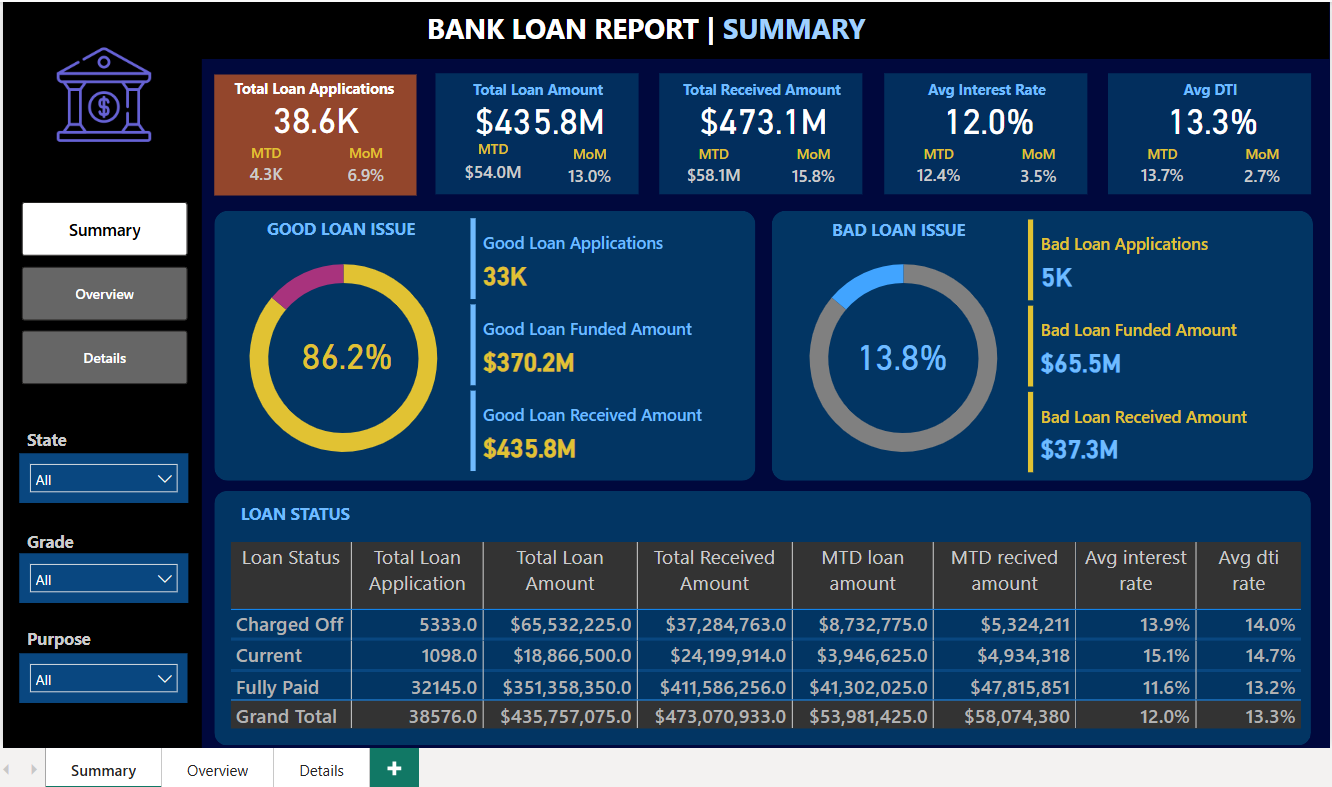

The dashboard page shown, as its layout file describes it:
{"tool":"powerbi","page":{"name":"Summary","canvas":[1280,720],"ordinal":0},"visuals":[{"type":"shape","box":[0,0,1280,55],"z":0},{"type":"cardVisual","fields":{"Data":["_Measure Table.Total Application"]},"box":[219.3,70.7,165.9,75],"z":0,"group":"g4"},{"type":"cardVisual","fields":{"Data":["_Measure Table.Avg interest rate"]},"box":[868,71.6,165.9,75],"z":0,"group":"g7"},{"type":"cardVisual","fields":{"Data":["_Measure Table.Total recived amount"]},"box":[651.7,71.8,165.9,75],"z":0,"group":"g8"},{"type":"cardVisual","fields":{"Data":["_Measure Table.Avg dti rate"]},"box":[1084.3,71.8,165.9,75],"z":0,"group":"g9"},{"type":"cardVisual","fields":{"Data":["_Measure Table.Total loan amount"]},"box":[435.6,72.1,165.9,75],"z":0,"group":"g10"},{"type":"shape","box":[0,0,191.9,719.9],"z":1000},{"type":"textbox","box":[201.5,69,197.9,31.4],"z":1000,"group":"g4"},{"type":"textbox","box":[850.2,69.9,197.9,31.4],"z":1000,"group":"g7"},{"type":"textbox","box":[633.9,70.1,197.9,31.4],"z":1000,"group":"g8"},{"type":"textbox","box":[1066.5,70.1,197.9,31.4],"z":1000,"group":"g9"},{"type":"textbox","box":[417.8,70.4,197.9,31.4],"z":1000,"group":"g10"},{"type":"textbox","box":[404.2,2.4,470.5,55.5],"z":2000},{"type":"card","title":"MTD","fields":{"Values":["_Measure Table.MTD loan amount"]},"box":[432.5,132.7,82,54.3],"z":2000,"group":"g10"},{"type":"card","title":"MTD","fields":{"Values":["_Measure Table.mtd application"]},"box":[222,136.6,63.9,49.5],"z":2000,"group":"g4"},{"type":"card","title":"MTD","fields":{"Values":["_Measure Table.MTD avg interest rate"]},"box":[870.7,137.5,63.9,49.5],"z":2000,"group":"g7"},{"type":"card","title":"MTD","fields":{"Values":["_Measure Table.MTD recived amount"]},"box":[654.4,137.7,63.9,49.5],"z":2000,"group":"g8"},{"type":"card","title":"MTD","fields":{"Values":["_Measure Table.MTD avg dti rate"]},"box":[1087,137.7,63.9,49.5],"z":2000,"group":"g9"},{"type":"group","id":"g1","title":"Group 3","box":[417.8,69.3,197.9,118.2],"z":3000},{"type":"shape","box":[203.9,70.2,195.4,117],"z":3000,"group":"g11"},{"type":"card","title":"MoM","fields":{"Values":["_Measure Table.MoM applications"]},"box":[318.9,137.1,63.5,49.1],"z":3000,"group":"g4"},{"type":"card","title":"MoM","fields":{"Values":["_Measure Table.Mom Avg interest rate"]},"box":[967.6,138,63.5,49.1],"z":3000,"group":"g7"},{"type":"card","title":"MoM","fields":{"Values":["_Measure Table.MoM recived amount"]},"box":[751.3,138.2,63.5,49.1],"z":3000,"group":"g8"},{"type":"card","title":"MoM","fields":{"Values":["_Measure Table.MoM avg dti rate"]},"box":[1183.9,138.2,63.5,49.1],"z":3000,"group":"g9"},{"type":"card","title":"MoM","fields":{"Values":["_Measure Table.MoM loan amount"]},"box":[535.2,138.5,63.5,49.1],"z":3000,"group":"g10"},{"type":"group","id":"g2","title":"Group 1","box":[201.5,69,197.9,117.1],"z":4000,"group":"g11"},{"type":"group","id":"g3","title":"Group 3","box":[633.9,69,197.9,118.2],"z":4000},{"type":"group","id":"g4","title":"Group 2","box":[201.5,69,197.9,117.1],"z":4005,"group":"g2"},{"type":"group","id":"g5","title":"Group 3","box":[850.2,68.8,197.9,118.2],"z":5000},{"type":"shape","box":[850.2,68.8,196.2,116.9],"z":5000,"group":"g5"},{"type":"shape","box":[633.9,69,196.2,116.9],"z":5000,"group":"g3"},{"type":"shape","box":[1066.5,69,196.2,116.9],"z":5000,"group":"g6"},{"type":"shape","box":[417.8,69.3,196.2,116.9],"z":5000,"group":"g1"},{"type":"group","id":"g6","title":"Group 3","box":[1066.5,69,197.9,118.2],"z":6000},{"type":"group","id":"g7","title":"Group 2","box":[850.2,69.9,197.7,116.9],"z":6000,"group":"g5"},{"type":"group","id":"g8","title":"Group 2","box":[633.9,70.1,197.7,116.9],"z":6000,"group":"g3"},{"type":"group","id":"g9","title":"Group 2","box":[1066.5,70.1,197.7,116.9],"z":6000,"group":"g6"},{"type":"group","id":"g10","title":"Group 2","box":[417.8,70.4,197.9,117.1],"z":6000,"group":"g1"},{"type":"group","id":"g11","title":"Group 4","box":[201.5,69,197.9,118.2],"z":7000},{"type":"shape","box":[203.9,201.5,522.4,260.6],"z":8000},{"type":"shape","box":[742,201.5,522.4,260.6],"z":9000},{"type":"donutChart","fields":{"Category":["bank_loan_data.good - bad loan"],"Y":["_Measure Table.Total Application"]},"box":[203.9,225.6,249.7,236.5],"z":10000},{"type":"cardVisual","fields":{"Data":["_Measure Table.good loan %"]},"box":[264.7,298.5,135.4,65.3],"z":11000},{"type":"donutChart","fields":{"Category":["bank_loan_data.good - bad loan"],"Y":["_Measure Table.Total Application"]},"box":[744.4,225.6,249.7,236.5],"z":12000},{"type":"cardVisual","fields":{"Data":["_Measure Table.bad loan %"]},"box":[799.9,299.2,135.1,65.1],"z":13000},{"type":"textbox","box":[249.7,202.7,158,54.3],"z":14000},{"type":"textbox","box":[795,203.9,158,54.3],"z":15000},{"type":"cardVisual","fields":{"Data":["_Measure Table.Good Loan Applications","_Measure Table.Good Loan Funded Amount","_Measure Table.Good Loan Received Amount"]},"box":[446.7,204.4,280.2,257],"z":16000},{"type":"cardVisual","fields":{"Data":["_Measure Table.Bad Loan Applications","_Measure Table.Bad Loan Funded Amount","_Measure Table.Bad Loan Received Amount"]},"box":[983.9,205.6,280.2,257],"z":17000},{"type":"shape","box":[204.4,471.1,1058.5,246],"z":18000},{"type":"tableEx","fields":{"Values":["bank_loan_data.loan_status","_Measure Table.Total Application","_Measure Table.Total loan amount","_Measure Table.Total recived amount","_Measure Table.MTD loan amount","_Measure Table.MTD recived amount","_Measure Table.Avg interest rate","_Measure Table.Avg dti rate"]},"box":[213.5,516.4,1052,202.7],"z":19000},{"type":"textbox","box":[223.9,477.2,127.3,45.3],"z":20000},{"type":"slicer","fields":{"Values":["bank_loan_data.address_state"]},"box":[15.7,435.5,162.9,48.3],"z":21000},{"type":"textbox","box":[18.1,406.6,66.4,33.8],"z":22000},{"type":"slicer","fields":{"Values":["bank_loan_data.grade"]},"box":[15.7,532.3,162.9,48.3],"z":23000},{"type":"textbox","box":[18.1,504.3,66.4,33.8],"z":24000},{"type":"slicer","fields":{"Values":["bank_loan_data.purpose"]},"box":[15.9,629,162.8,47.7],"z":25000},{"type":"textbox","box":[18.1,598.4,79.6,33.8],"z":26000},{"type":"image","box":[47.1,37.4,101.3,103.8],"z":26001},{"type":"pageNavigator","box":[18.1,193,160.5,176.1],"z":26002}]}

Visuals, with their boxes on the page's 1280x720 design canvas (x1, y1, x2, y2). These are canvas units, not pixel positions in the 1332x787 screenshot, which may show the page scaled, cropped or inside an application window:
shape: 0:0:1280:55
cardVisual - _Measure Table.Total Application: 219:71:385:146
cardVisual - _Measure Table.Avg interest rate: 868:72:1034:147
cardVisual - _Measure Table.Total recived amount: 652:72:818:147
cardVisual - _Measure Table.Avg dti rate: 1084:72:1250:147
cardVisual - _Measure Table.Total loan amount: 436:72:602:147
shape: 0:0:192:720
textbox: 202:69:399:100
textbox: 850:70:1048:101
textbox: 634:70:832:102
textbox: 1066:70:1264:102
textbox: 418:70:616:102
textbox: 404:2:875:58
"MTD" card: 432:133:514:187
"MTD" card: 222:137:286:186
"MTD" card: 871:138:935:187
"MTD" card: 654:138:718:187
"MTD" card: 1087:138:1151:187
"Group 3" group: 418:69:616:188
shape: 204:70:399:187
"MoM" card: 319:137:382:186
"MoM" card: 968:138:1031:187
"MoM" card: 751:138:815:187
"MoM" card: 1184:138:1247:187
"MoM" card: 535:138:599:188
"Group 1" group: 202:69:399:186
"Group 3" group: 634:69:832:187
"Group 2" group: 202:69:399:186
"Group 3" group: 850:69:1048:187
shape: 850:69:1046:186
shape: 634:69:830:186
shape: 1066:69:1263:186
shape: 418:69:614:186
"Group 3" group: 1066:69:1264:187
"Group 2" group: 850:70:1048:187
"Group 2" group: 634:70:832:187
"Group 2" group: 1066:70:1264:187
"Group 2" group: 418:70:616:188
"Group 4" group: 202:69:399:187
shape: 204:202:726:462
shape: 742:202:1264:462
donutChart - bank_loan_data.good - bad loan x _Measure Table.Total Application: 204:226:454:462
cardVisual - _Measure Table.good loan %: 265:298:400:364
donutChart - bank_loan_data.good - bad loan x _Measure Table.Total Application: 744:226:994:462
cardVisual - _Measure Table.bad loan %: 800:299:935:364
textbox: 250:203:408:257
textbox: 795:204:953:258
cardVisual - _Measure Table.Good Loan Applications x _Measure Table.Good Loan Funded Amount: 447:204:727:461
cardVisual - _Measure Table.Bad Loan Applications x _Measure Table.Bad Loan Funded Amount: 984:206:1264:463
shape: 204:471:1263:717
tableEx - bank_loan_data.loan_status x _Measure Table.Total Application: 214:516:1266:719
textbox: 224:477:351:522
slicer - bank_loan_data.address_state: 16:436:179:484
textbox: 18:407:84:440
slicer - bank_loan_data.grade: 16:532:179:581
textbox: 18:504:84:538
slicer - bank_loan_data.purpose: 16:629:179:677
textbox: 18:598:98:632
image: 47:37:148:141
pageNavigator: 18:193:179:369
